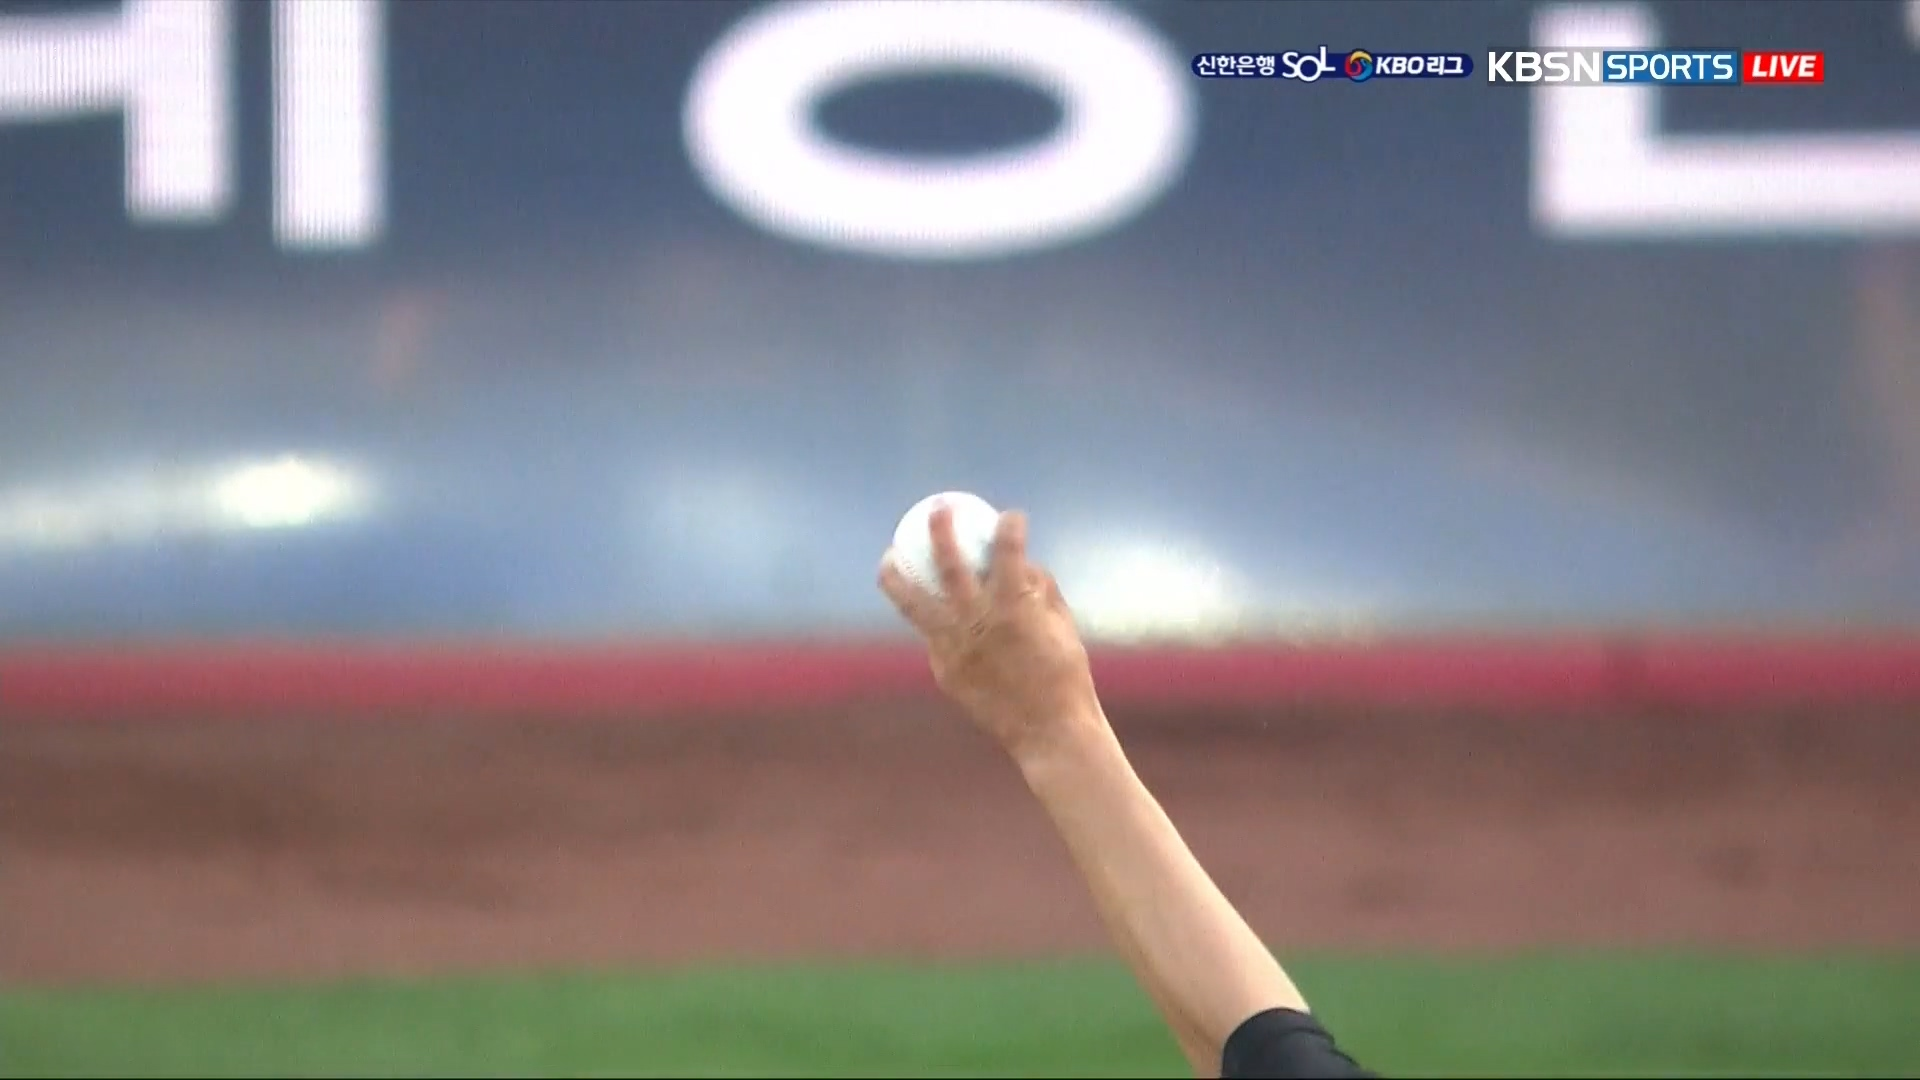zoomin_hand: (849, 476, 1333, 1068)
